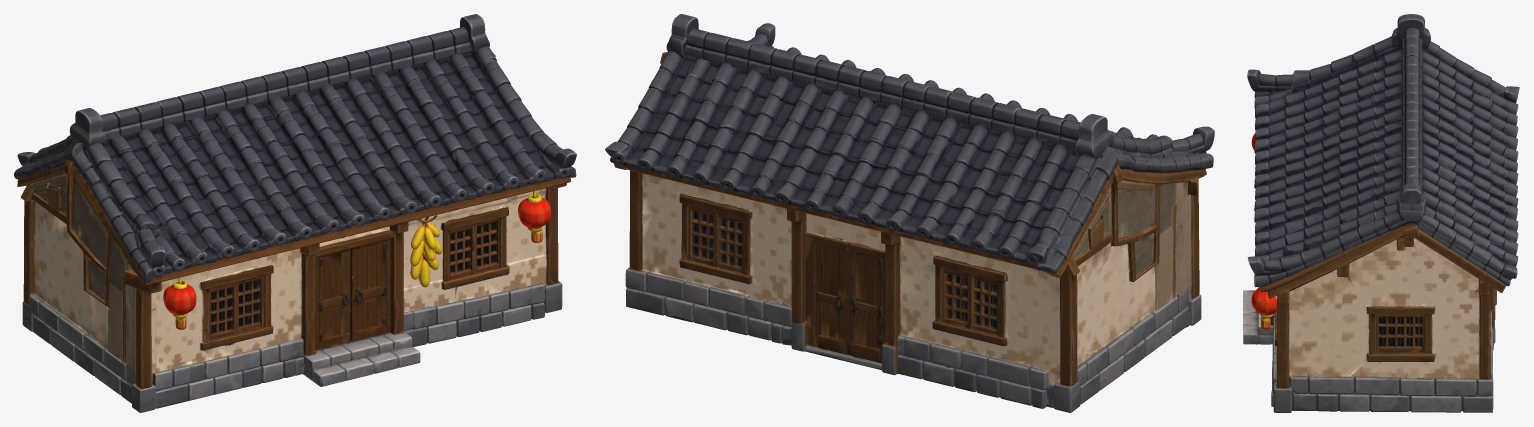
Rendered from bq_farmhouse.hd.glb.
3 views of the same model, side by side, from view 1: azimuth 30°, elevation 25°; view 2: azimuth 150°, elevation 25°; view 3: azimuth 270°, elevation 25° (orthographic). The views are drawn at different scales.
Bounding box in the file's own units: 1.92 × 1.03 × 1.16.
1 material, 1 textured.
